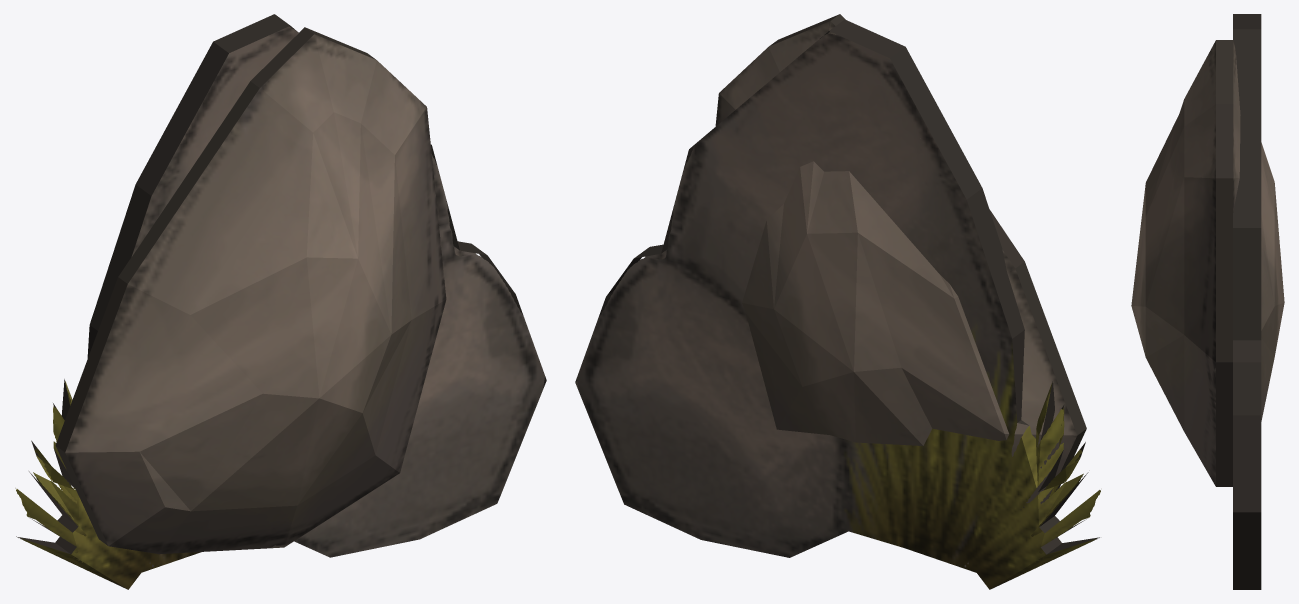
File: Stone_01.fbx
3 views of the same model, side by side, from view 1: azimuth 30°, elevation 25°; view 2: azimuth 150°, elevation 25°; view 3: azimuth 270°, elevation 25° (orthographic). The views are drawn at different scales.
Visible parts, largest first — view 1: Stones_01, Stones_02; view 2: Stones_02, Stones_01; view 3: Stones_01, Stones_02.
Boxes of the visible parts, left/top/right/bottom form: Stones_01: left=55, top=27, right=446, bottom=554; Stones_02: left=15, top=14, right=546, bottom=589; Stones_02: left=575, top=19, right=1100, bottom=589; Stones_01: left=715, top=14, right=1086, bottom=509; Stones_01: left=1131, top=40, right=1284, bottom=486; Stones_02: left=1233, top=14, right=1261, bottom=589.
Size of the model in its own units: 2.29 by 0.6507 by 2.28.
